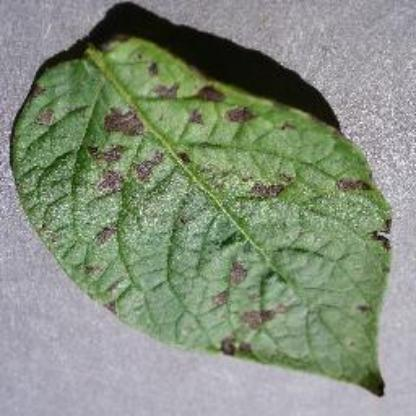Early-Blight: (8, 25, 394, 397)
